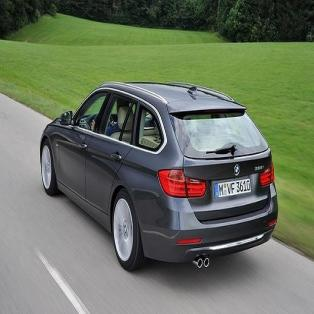Auto: (40, 82, 280, 272)
